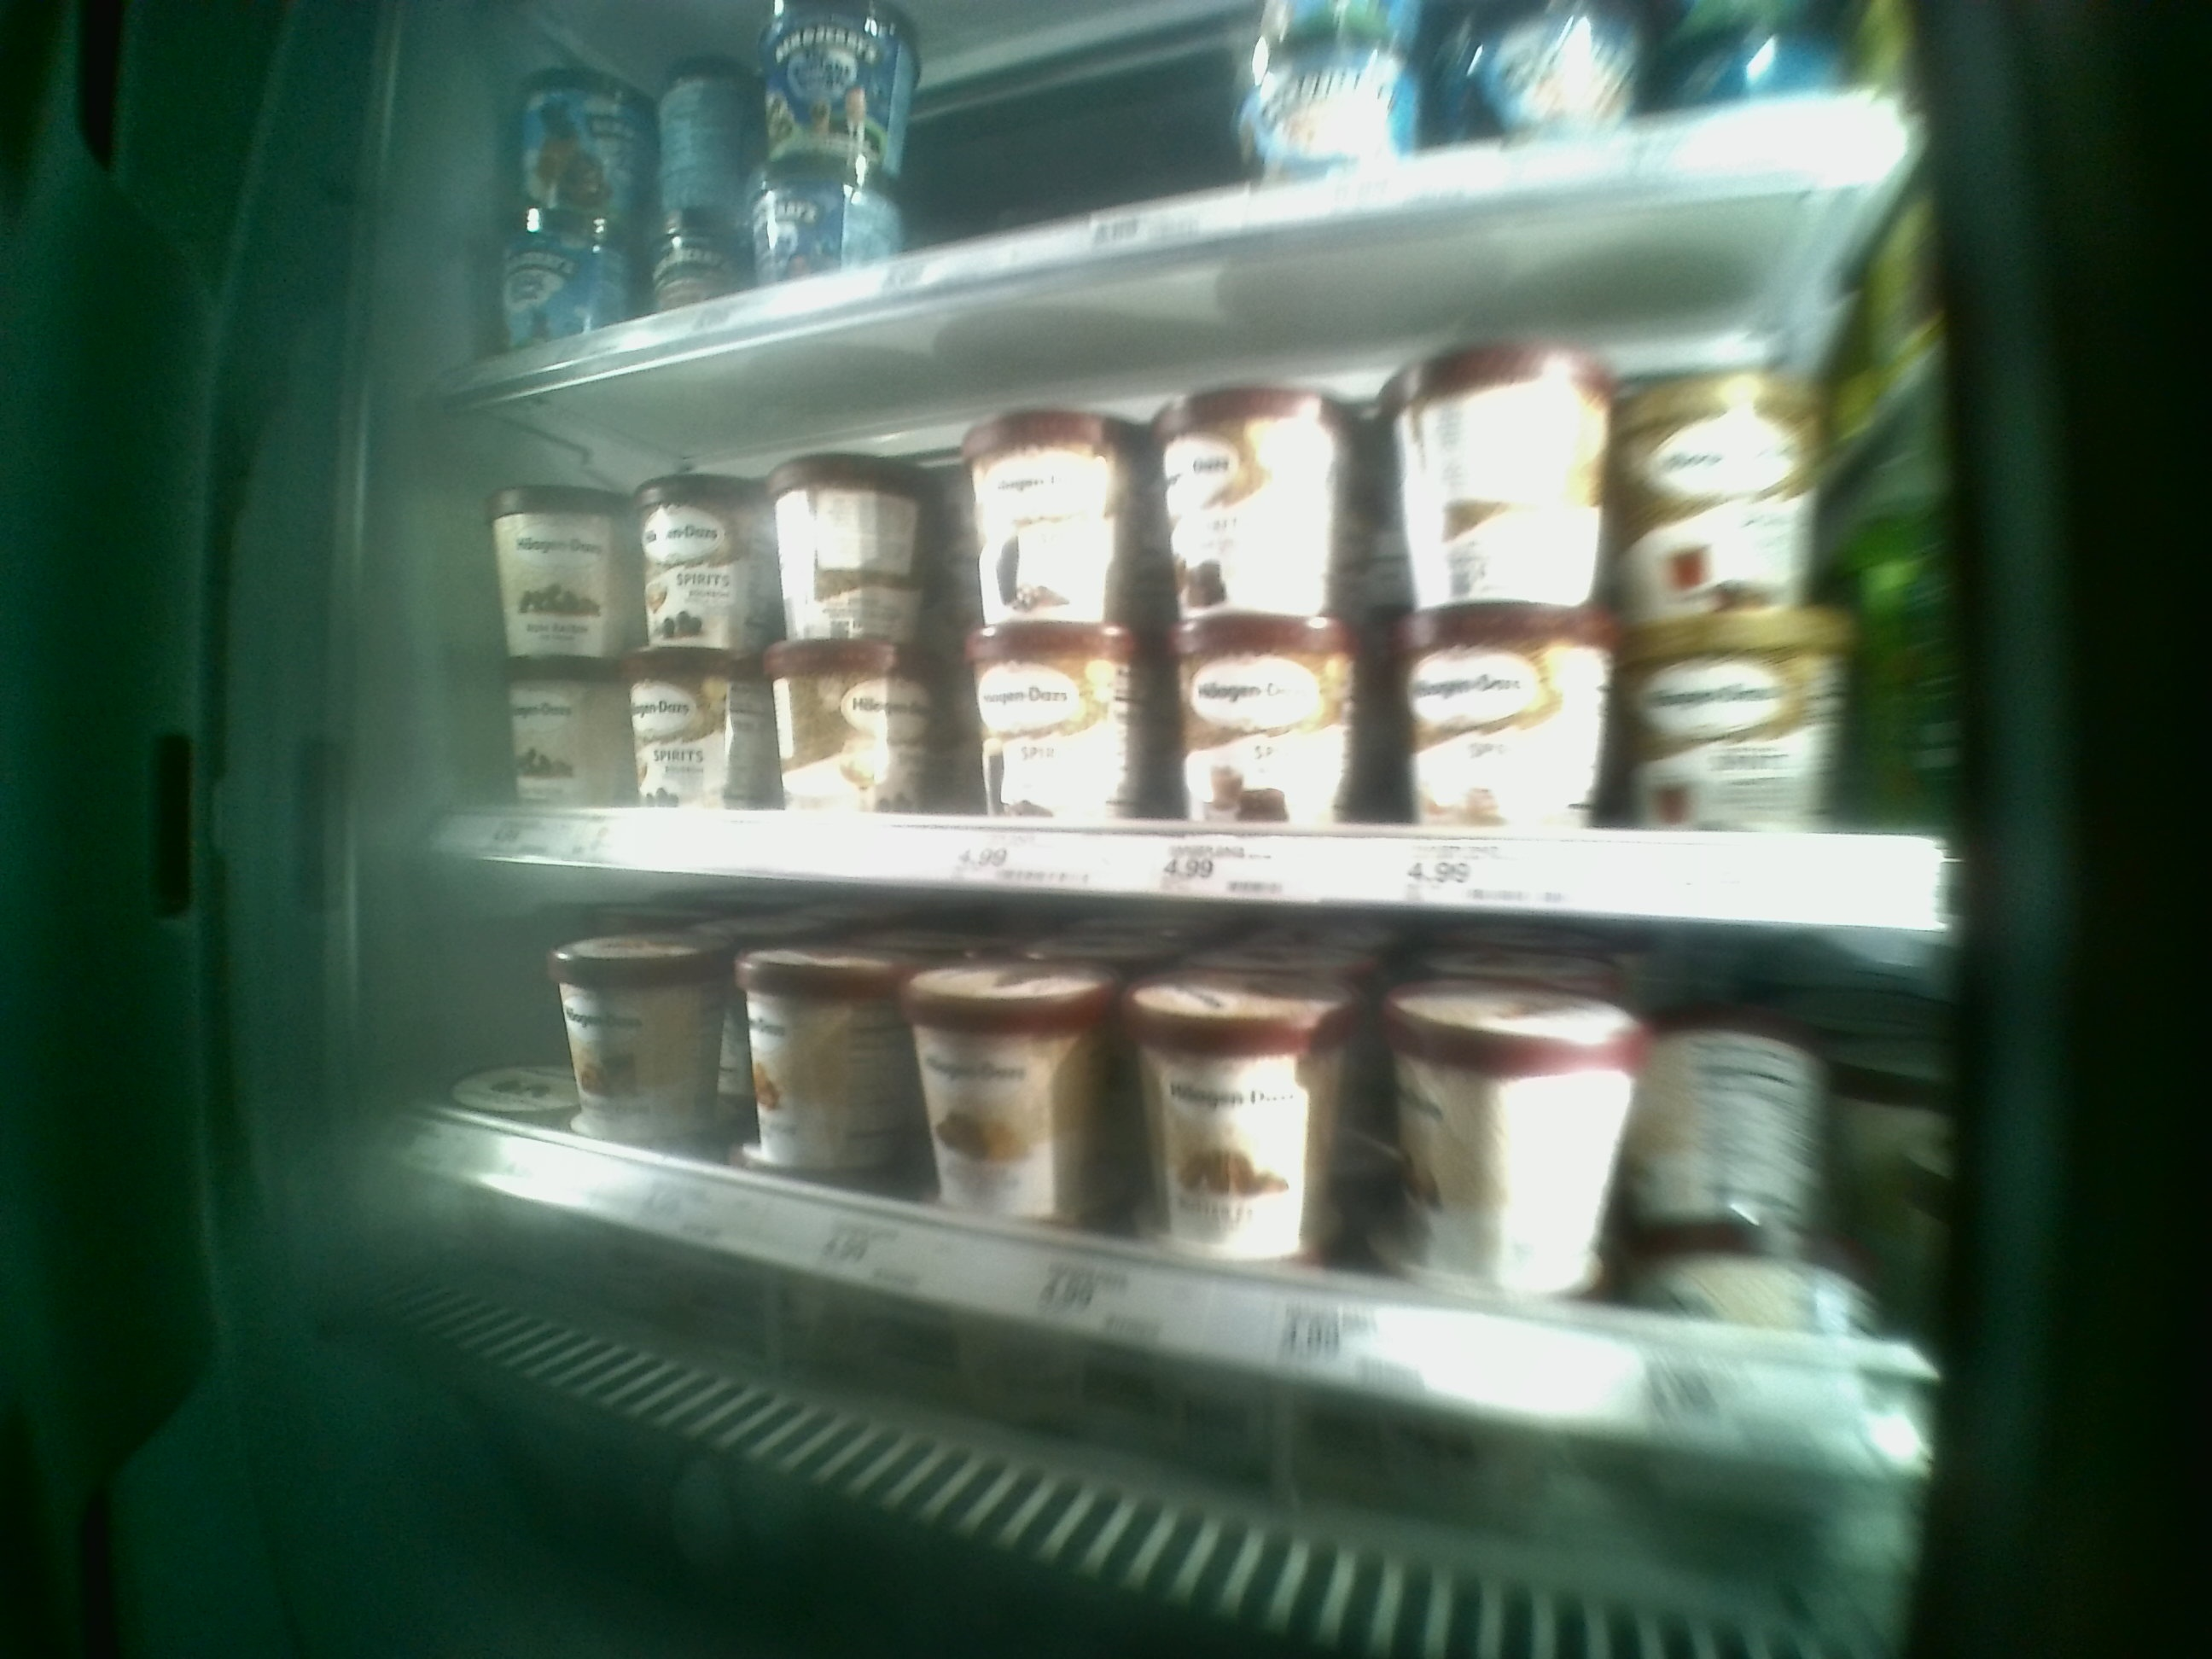shelf: (411, 186, 1942, 938), (415, 864, 1937, 1577)
